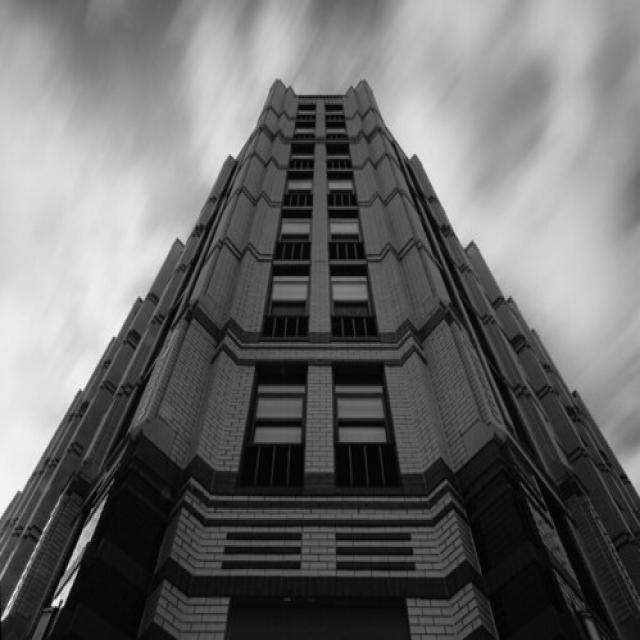Normal_building: (6, 67, 639, 640)
